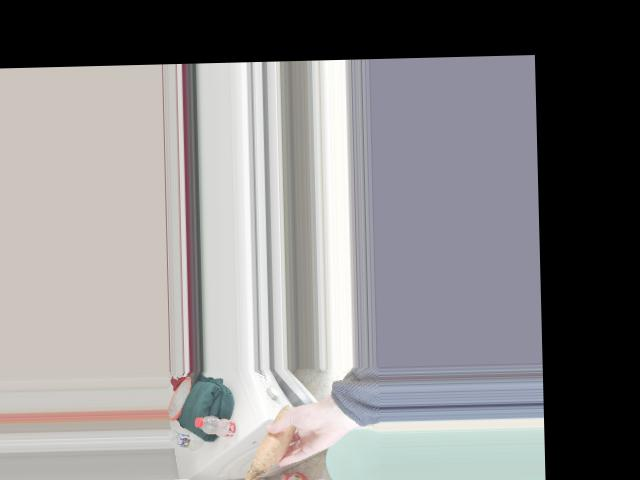sweet_potato: (255, 414, 292, 465)
